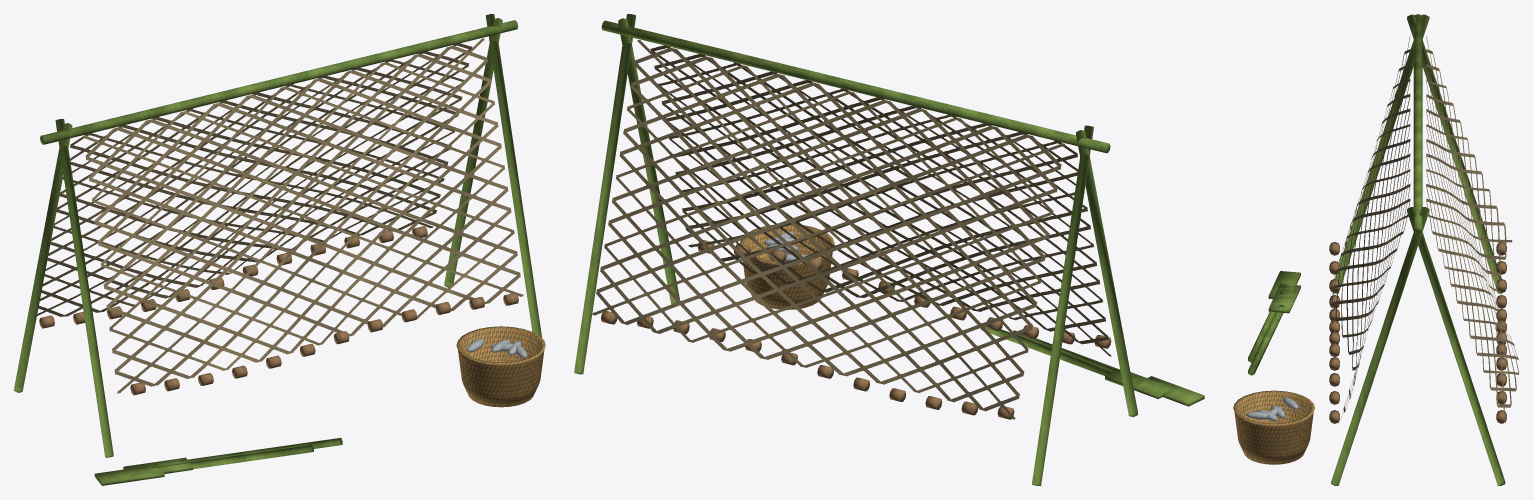
The model's file is fishing_nets.glb.
The picture shows the model from 3 angles, left to right: view 1: azimuth 30°, elevation 25°; view 2: azimuth 150°, elevation 25°; view 3: azimuth 270°, elevation 25°; orthographic projection. The views are drawn at different scales.
Parts seen in each view (by area): view 1: Nets, NetFrame, FishBasket, NetFloats, Fish; view 2: Nets, NetFrame, FishBasket, NetFloats; view 3: Nets, NetFrame, FishBasket, NetFloats, Fish.
Part boxes in pixels (x1=…): Nets: x1=37, y1=38, x2=523, y2=393; NetFrame: x1=14, y1=14, x2=541, y2=485; FishBasket: x1=456, y1=326, x2=545, y2=407; NetFloats: x1=39, y1=226, x2=518, y2=395; Fish: x1=467, y1=338, x2=526, y2=358; Nets: x1=592, y1=40, x2=1111, y2=419; NetFrame: x1=574, y1=14, x2=1204, y2=485; FishBasket: x1=739, y1=224, x2=834, y2=309; NetFloats: x1=601, y1=240, x2=1111, y2=419; Nets: x1=1331, y1=36, x2=1519, y2=422; NetFrame: x1=1248, y1=14, x2=1505, y2=485; FishBasket: x1=1233, y1=390, x2=1314, y2=464; NetFloats: x1=1329, y1=242, x2=1506, y2=423; Fish: x1=1246, y1=397, x2=1298, y2=420.
Size of what is drawn, in the model's own units: 3.41 by 2.01 by 1.89.
5 materials, 5 textured.
